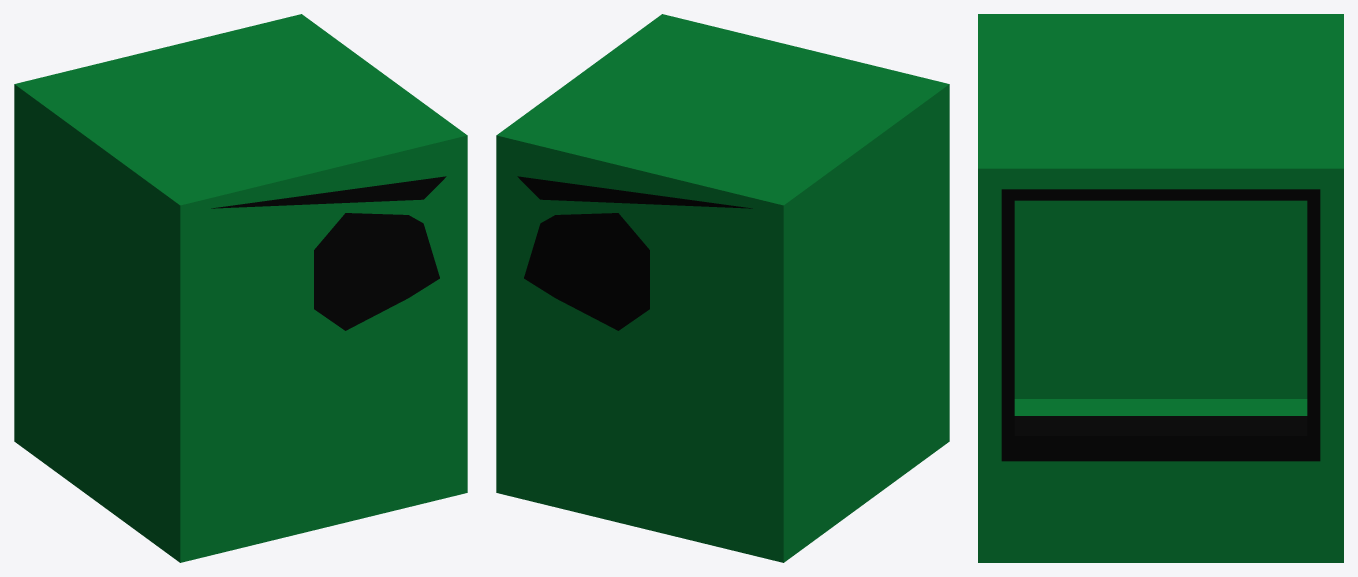
File: eNemy21.fbx
3 renders of one model, left to right at view 1: azimuth 30°, elevation 25°; view 2: azimuth 150°, elevation 25°; view 3: azimuth 270°, elevation 25°, orthographic. The views are drawn at different scales.
Parts seen in each view (by area): view 1: pCube2; view 2: pCube2; view 3: pCube2.
Boxes of the visible parts, left/top/right/bottom form: pCube2: left=14, top=14, right=467, bottom=562; pCube2: left=496, top=14, right=949, bottom=562; pCube2: left=978, top=14, right=1343, bottom=562.
Bounding box in the file's own units: 1 × 1.19 × 1.
